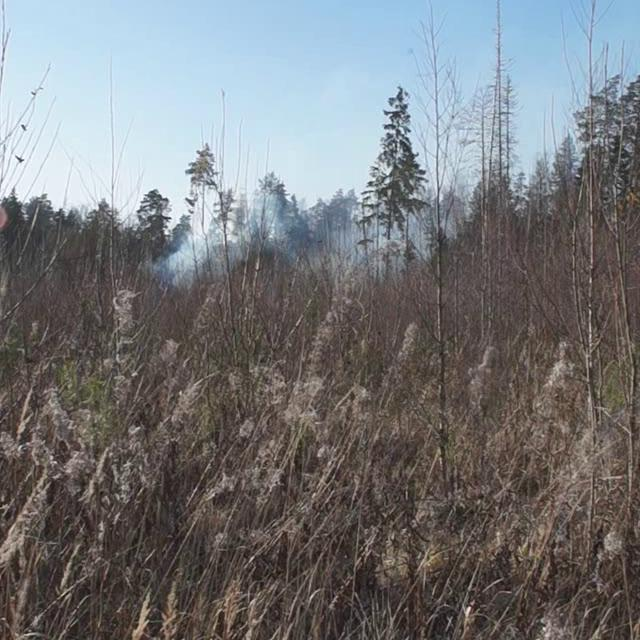Smoke: (130, 170, 490, 313)
